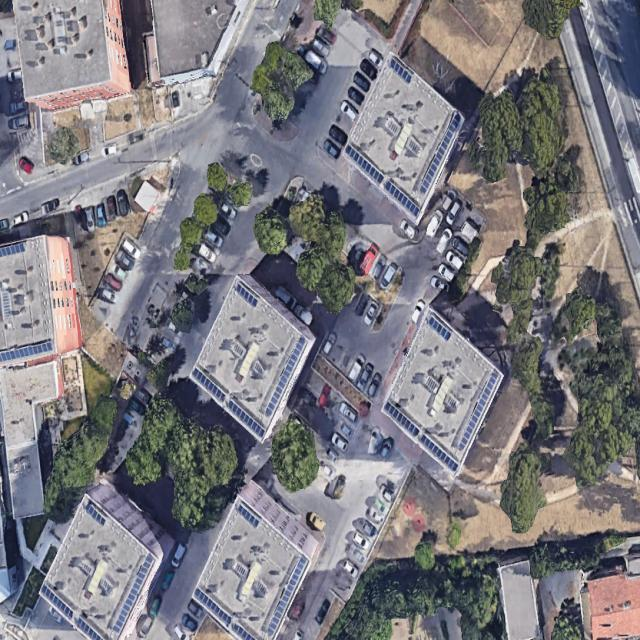immeuble: (326, 51, 479, 226), (366, 302, 517, 477), (28, 474, 187, 640), (177, 269, 327, 444), (178, 478, 332, 640), (1, 233, 82, 517), (10, 0, 135, 114), (150, 0, 244, 83)
